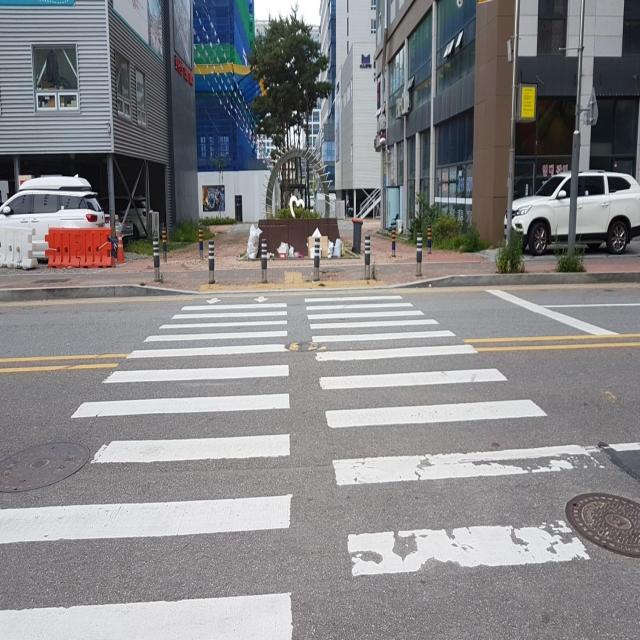횡단보도: (0, 290, 607, 640)
